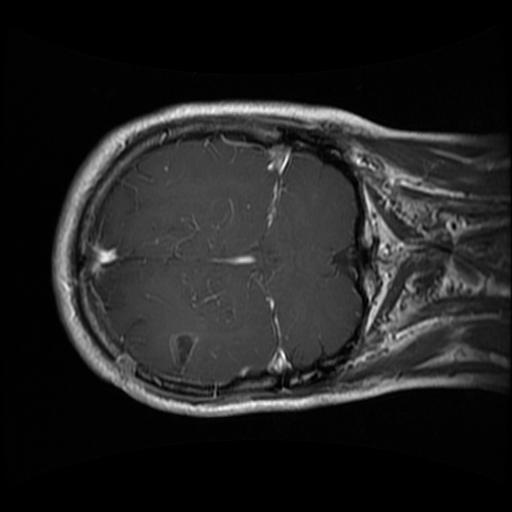glioma: (167, 328, 199, 374)
